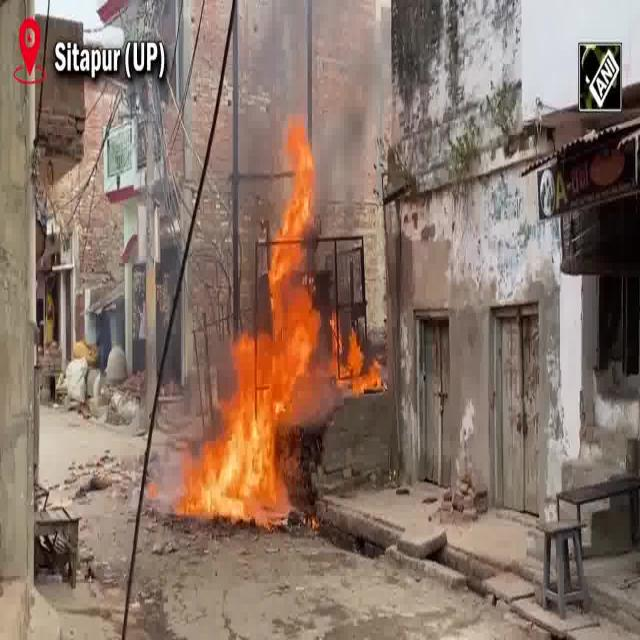fire: (201, 172, 346, 522)
